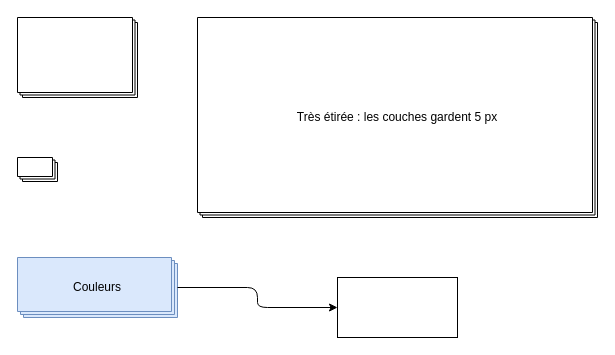
The diagram is 615 pixels wide and 355 high, and some of its shapes have lost their labels. Each missing label, with the centre of its shape:
"Cible" belongs at pixel 397 307.
"Normale" belongs at pixel 77 57.
